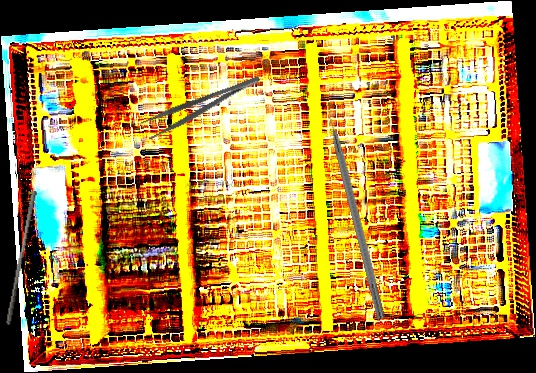Dressing Forceps: (139, 72, 267, 142)
Hook Surgical: (322, 99, 389, 320)
Pusher: (5, 189, 38, 327)
